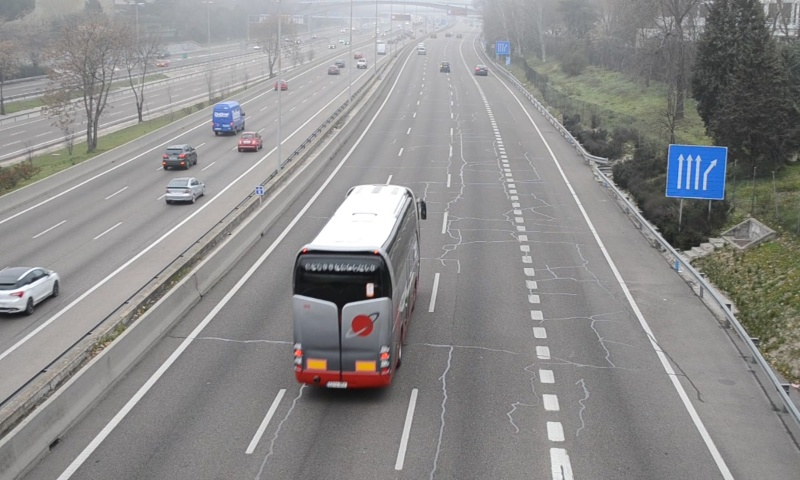bus: (294, 184, 418, 389)
car: (438, 60, 451, 74), (474, 64, 488, 76)
